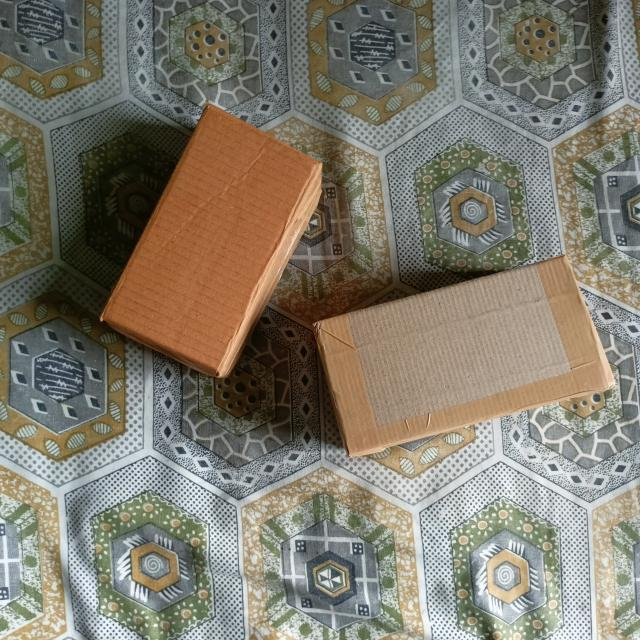box: (317, 256, 614, 456), (104, 102, 321, 370)
